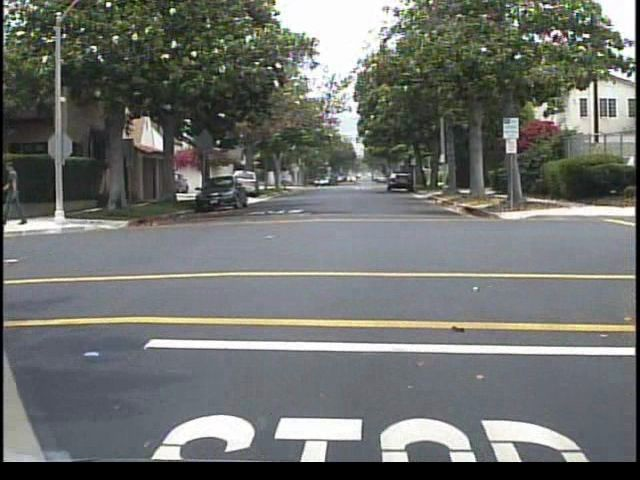person: (1, 154, 32, 228)
